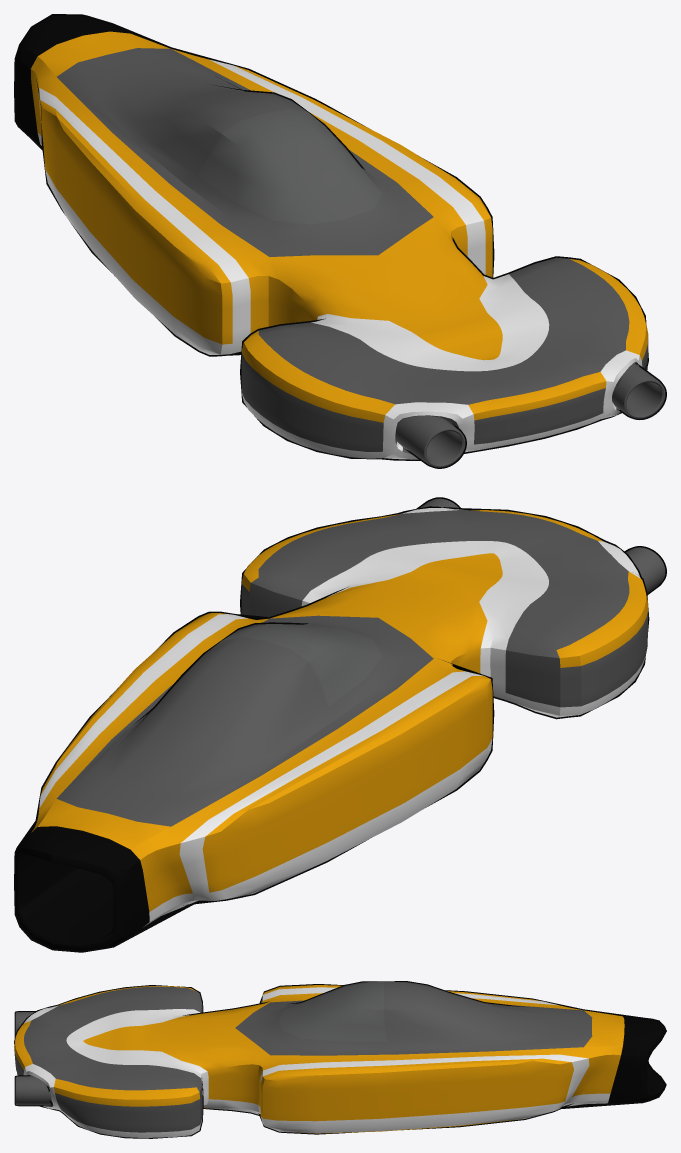
The model's file is EnemyMissileShipEXPORT.fbx.
3 views of the same model, one above another, from view 1: azimuth 30°, elevation 25°; view 2: azimuth 150°, elevation 25°; view 3: azimuth 270°, elevation 25° (orthographic). The views are drawn at different scales.
Parts seen in each view (by area): view 1: Circle.001, Cylinder, Circle.002; view 2: Circle.001, Circle.002, Cylinder; view 3: Circle.001, Circle.002, Cylinder.
Part boxes in pixels (x1,y1,x2,y2): Circle.001: [15, 15, 648, 459]; Cylinder: [395, 363, 665, 467]; Circle.002: [14, 14, 648, 460]; Circle.001: [15, 507, 648, 950]; Circle.002: [14, 506, 649, 952]; Cylinder: [420, 498, 665, 593]; Circle.001: [14, 981, 665, 1137]; Circle.002: [14, 981, 666, 1138]; Cylinder: [15, 1012, 52, 1105].
Bounding box in the file's own units: 272 × 649 × 123.
